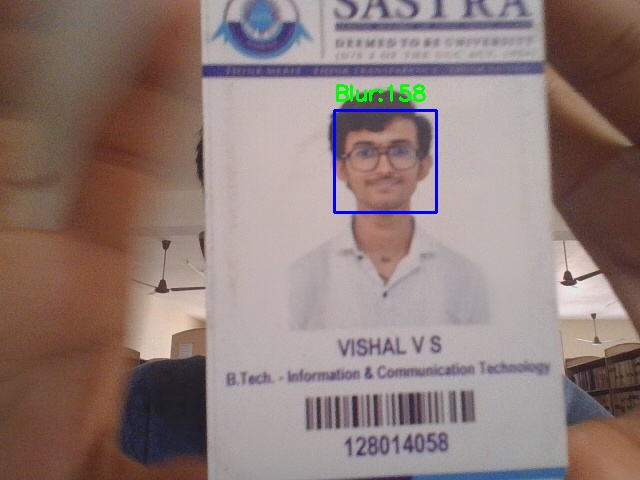fake: (334, 110, 436, 212)
